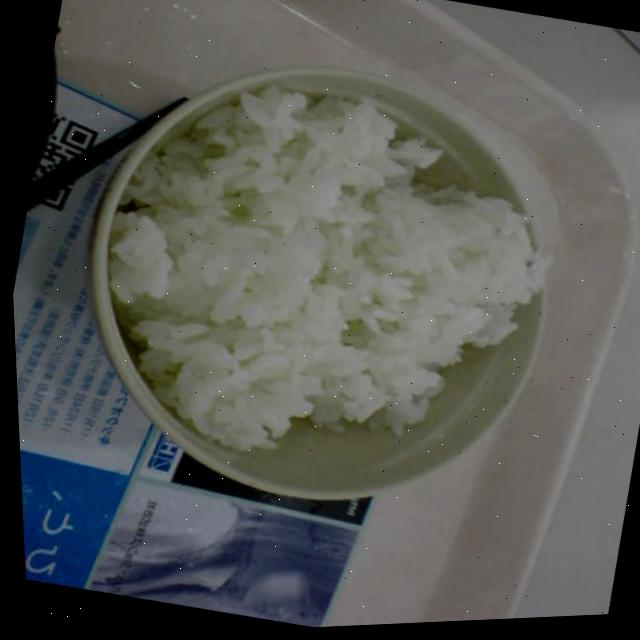米饭主食: (9, 22, 605, 553)
